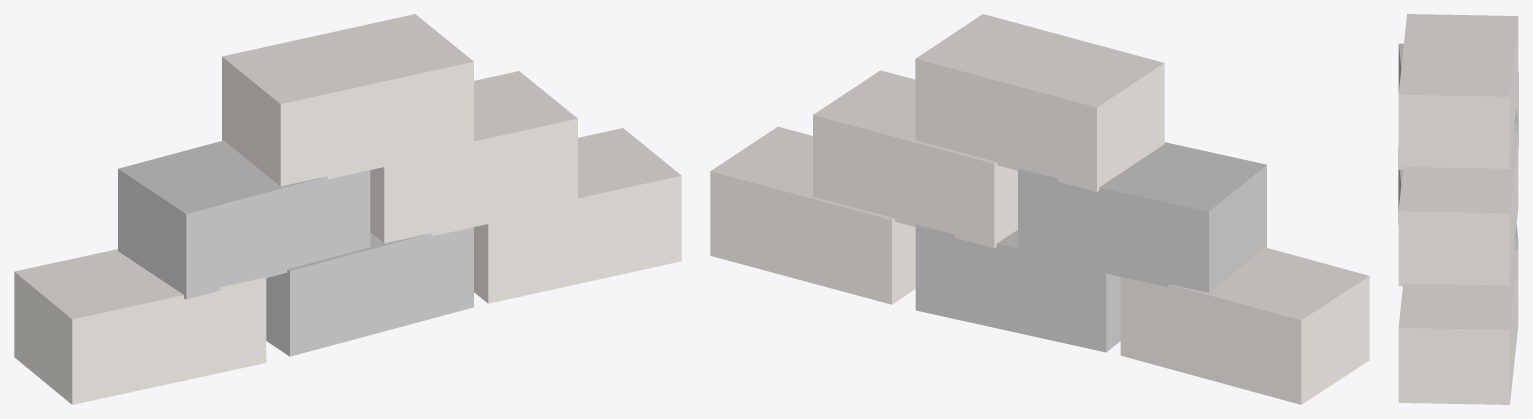
The model's file is SM_Sacos_v3_Pila_LOD0.fbx.
3 renders of one model, left to right at view 1: azimuth 30°, elevation 25°; view 2: azimuth 150°, elevation 25°; view 3: azimuth 270°, elevation 25°, orthographic. The views are drawn at different scales.
Parts seen in each view (by area): view 1: SM_farp_betera_v18_LOD0; view 2: SM_farp_betera_v18_LOD0; view 3: SM_farp_betera_v18_LOD0.
Boxes of the visible parts, x1,y1,x2,y2 form: SM_farp_betera_v18_LOD0: (14, 14, 681, 404); SM_farp_betera_v18_LOD0: (710, 14, 1369, 404); SM_farp_betera_v18_LOD0: (1398, 14, 1518, 404).
Bounding box in the file's own units: 1.94 × 0.76 × 0.3796.
